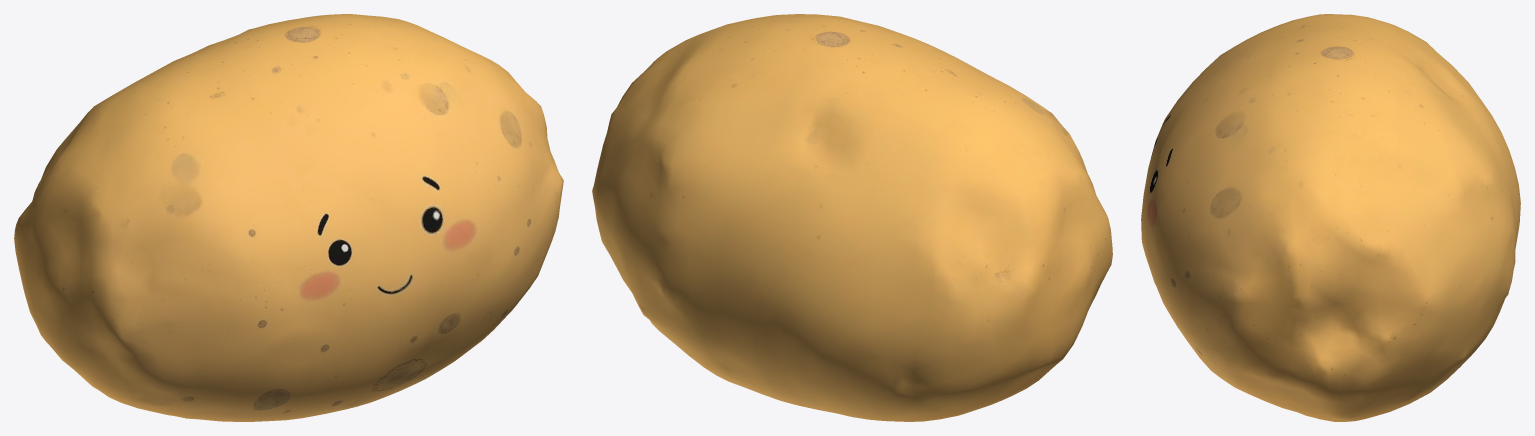
Rendered from potato.glb.
3 renders of one model, left to right at view 1: azimuth 30°, elevation 25°; view 2: azimuth 150°, elevation 25°; view 3: azimuth 270°, elevation 25°, orthographic. The views are drawn at different scales.
Size of the model in its own units: 0.9575 by 0.689 by 0.7016.
Materials: 1 (1 with a texture image).
